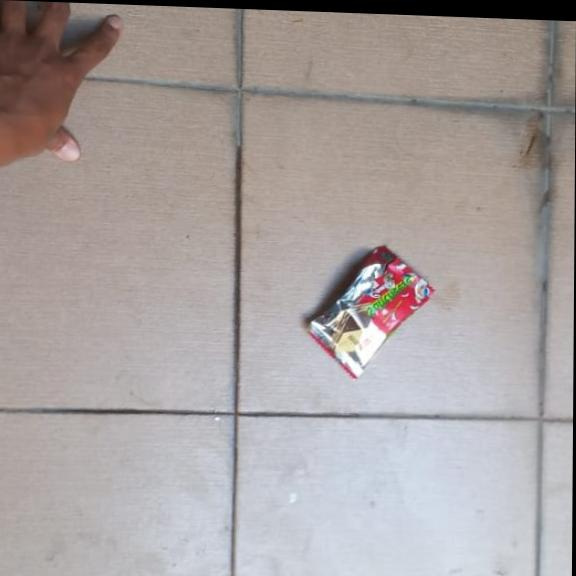Plastik: (305, 242, 435, 383)
